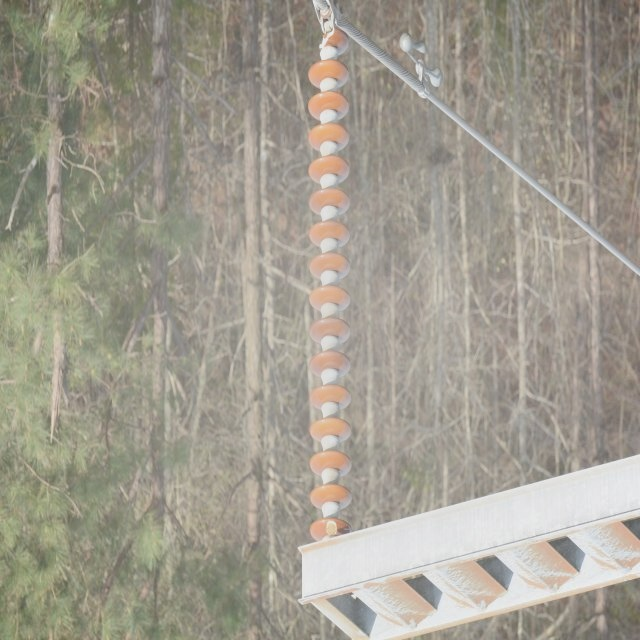broken: (317, 25, 337, 49)
insulator: (303, 31, 356, 544)
